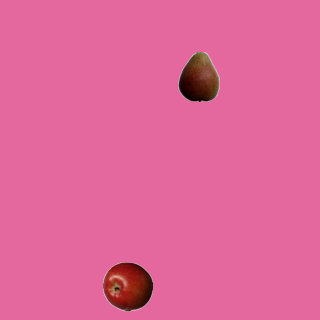Apple Braeburn: (102, 261, 152, 311)
Pear Forelle: (173, 51, 223, 101)
